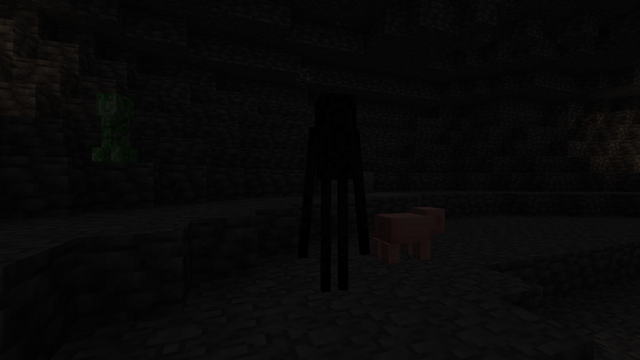cochons: (372, 210, 435, 265)
creepers: (94, 87, 134, 147)
endermens: (308, 83, 361, 301)
